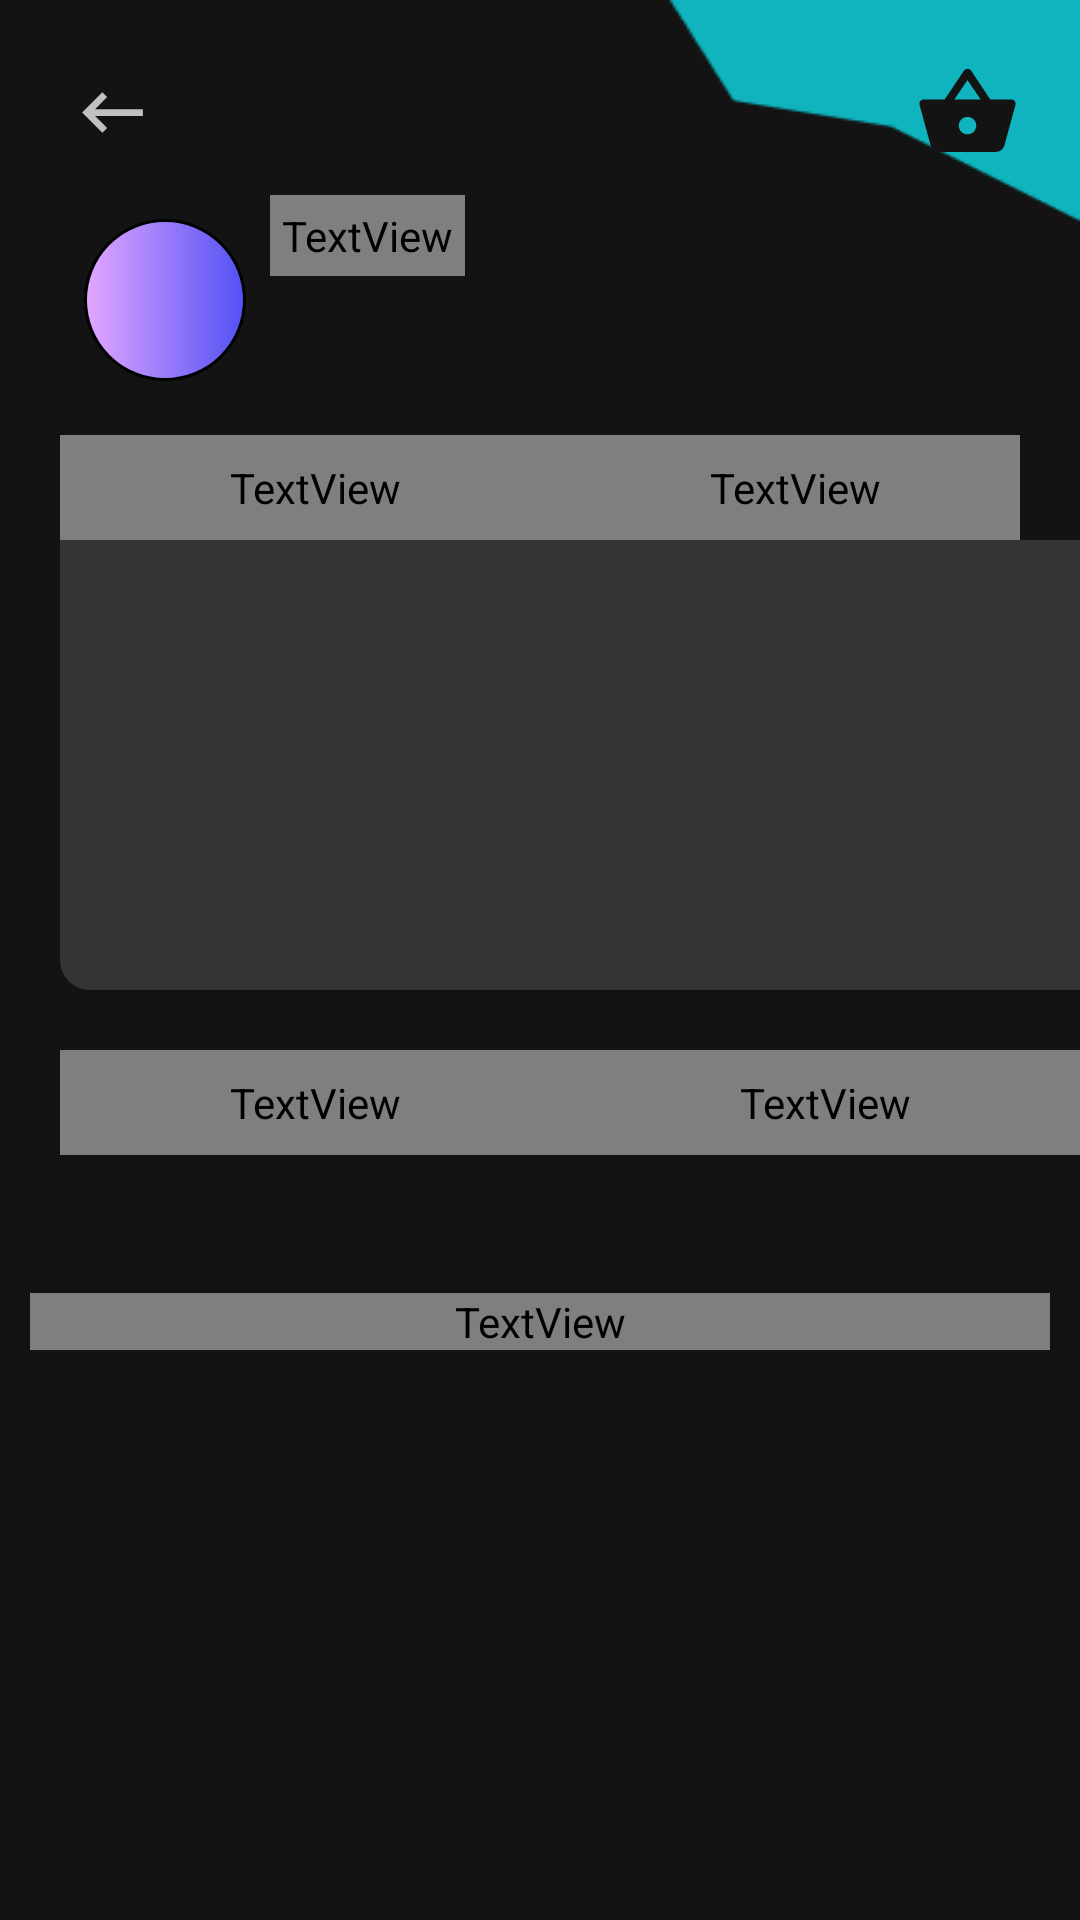

Icons on this 1080 x 1920 Android screen, each with the point to tap as [x,y]:
back: [112,112]
basket blakc: [965,117]
